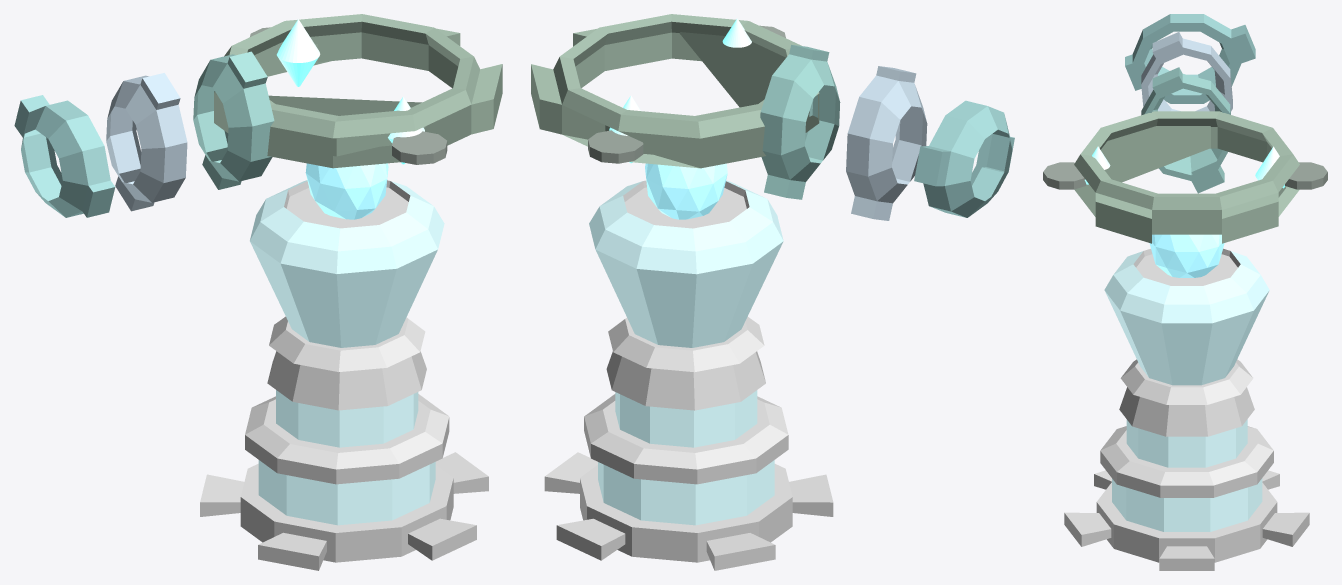
File: torreta_unity.fbx
3 views of the same model, side by side, from view 1: azimuth 30°, elevation 25°; view 2: azimuth 150°, elevation 25°; view 3: azimuth 270°, elevation 25° (orthographic). The views are drawn at different scales.
Visible parts, largest first — view 1: Cylinder, Cylinder.001, Cylinder.002, Cylinder.003, Cylinder.004, Icosphere, Cone.001, Cylinder.006; view 2: Cylinder, Cylinder.001, Cylinder.002, Cylinder.004, Cylinder.003, Icosphere, Cylinder.005; view 3: Cylinder, Cylinder.001, Cylinder.003, Cylinder.004, Icosphere, Cylinder.002, Cylinder.006, Cylinder.005.
Boxes of the visible parts, box(x1,y1,x2,y2) form: Cylinder: box(200, 180, 488, 570); Cylinder.001: box(214, 14, 502, 168); Cylinder.002: box(106, 73, 187, 211); Cylinder.003: box(14, 95, 115, 217); Cylinder.004: box(193, 51, 274, 189); Icosphere: box(305, 163, 388, 219); Cone.001: box(276, 19, 320, 86); Cylinder.006: box(392, 131, 447, 164); Cylinder: box(544, 180, 833, 570); Cylinder.001: box(531, 14, 819, 168); Cylinder.002: box(846, 66, 927, 220); Cylinder.004: box(760, 44, 840, 199); Cylinder.003: box(914, 100, 1014, 217); Icosphere: box(645, 163, 727, 219); Cylinder.005: box(588, 130, 643, 163); Cylinder: box(1064, 248, 1309, 570); Cylinder.001: box(1074, 111, 1299, 243); Cylinder.003: box(1125, 14, 1255, 103); Cylinder.004: box(1141, 67, 1230, 193); Icosphere: box(1149, 234, 1224, 277); Cylinder.002: box(1141, 32, 1232, 111); Cylinder.006: box(1043, 162, 1086, 189); Cylinder.005: box(1285, 162, 1327, 189).
Size of the model in its own units: 467 by 500 by 315.
